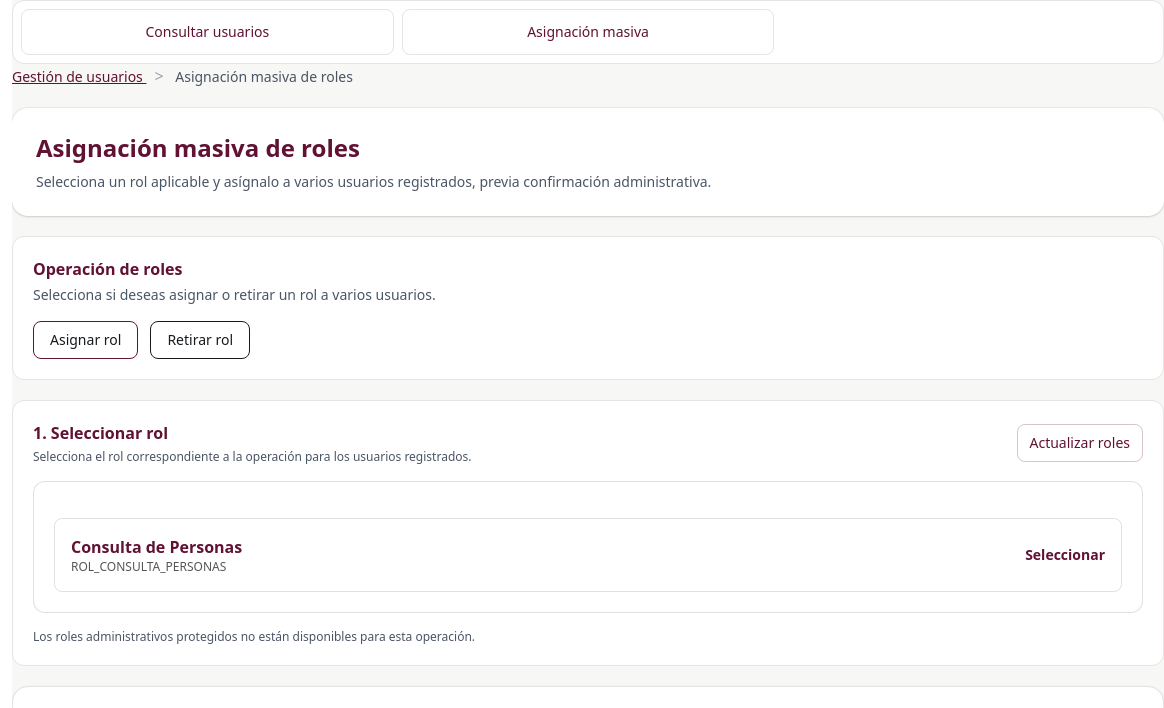
Test: BulkRoleAssignmentPageComponent › selecciona un rol desde el componente reutilizable
expect the element with test id "bulk-page-role-catalog" is shown: met, box [33, 481, 1143, 613]
Step 1. Click the button with test id "select-available-role" → (157, 547), box [54, 518, 1122, 592]
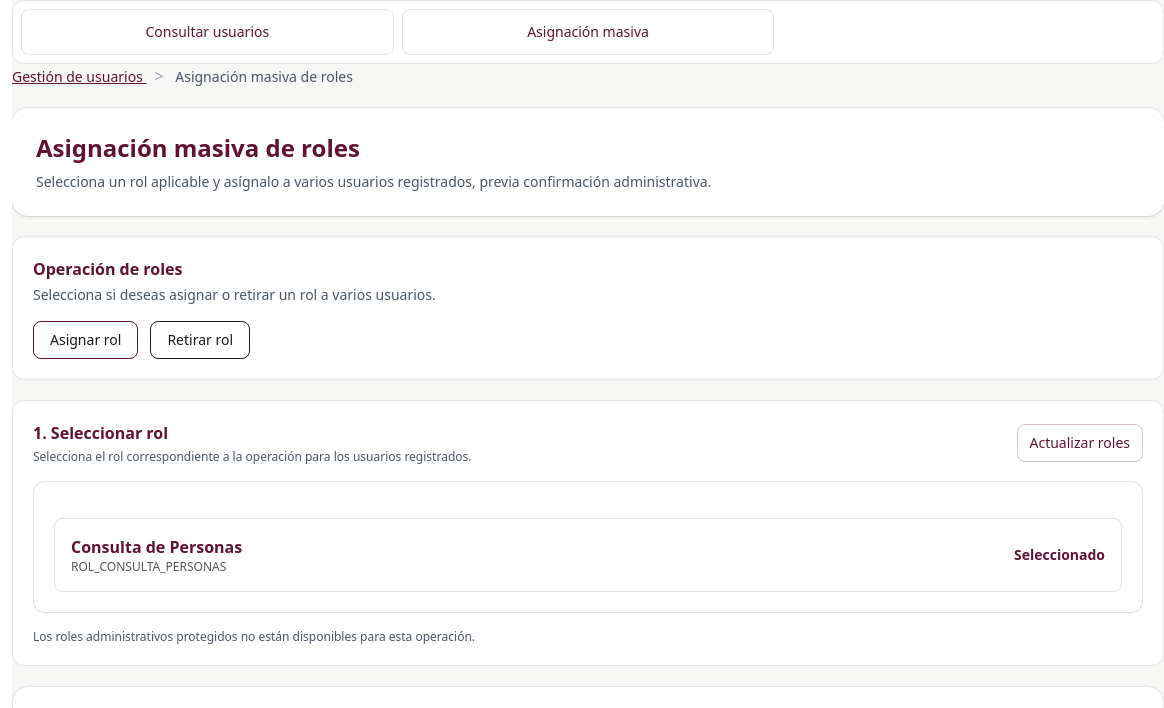
expect the text "ROL_CONSULTA_PERSONAS" is shown: met, box [71, 559, 242, 575]
expect the button with test id "select-available-role" shows "Seleccionado": met, box [54, 518, 1122, 592]
